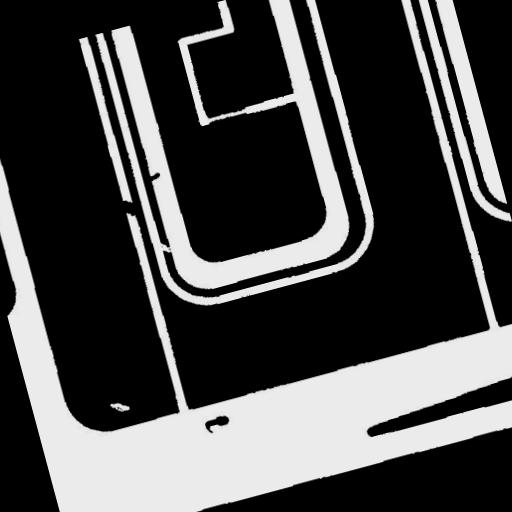copper: (194, 404, 240, 443)
open: (148, 230, 182, 264)
pin-hole: (100, 390, 138, 422)
short: (108, 188, 146, 227)
spur: (136, 162, 170, 192)
